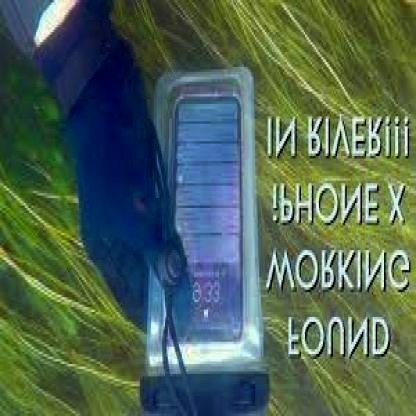cellphone: (160, 84, 255, 359)
